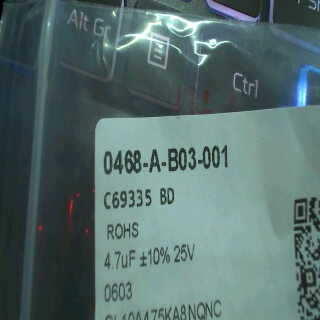4.7uF: (101, 245, 137, 275)
